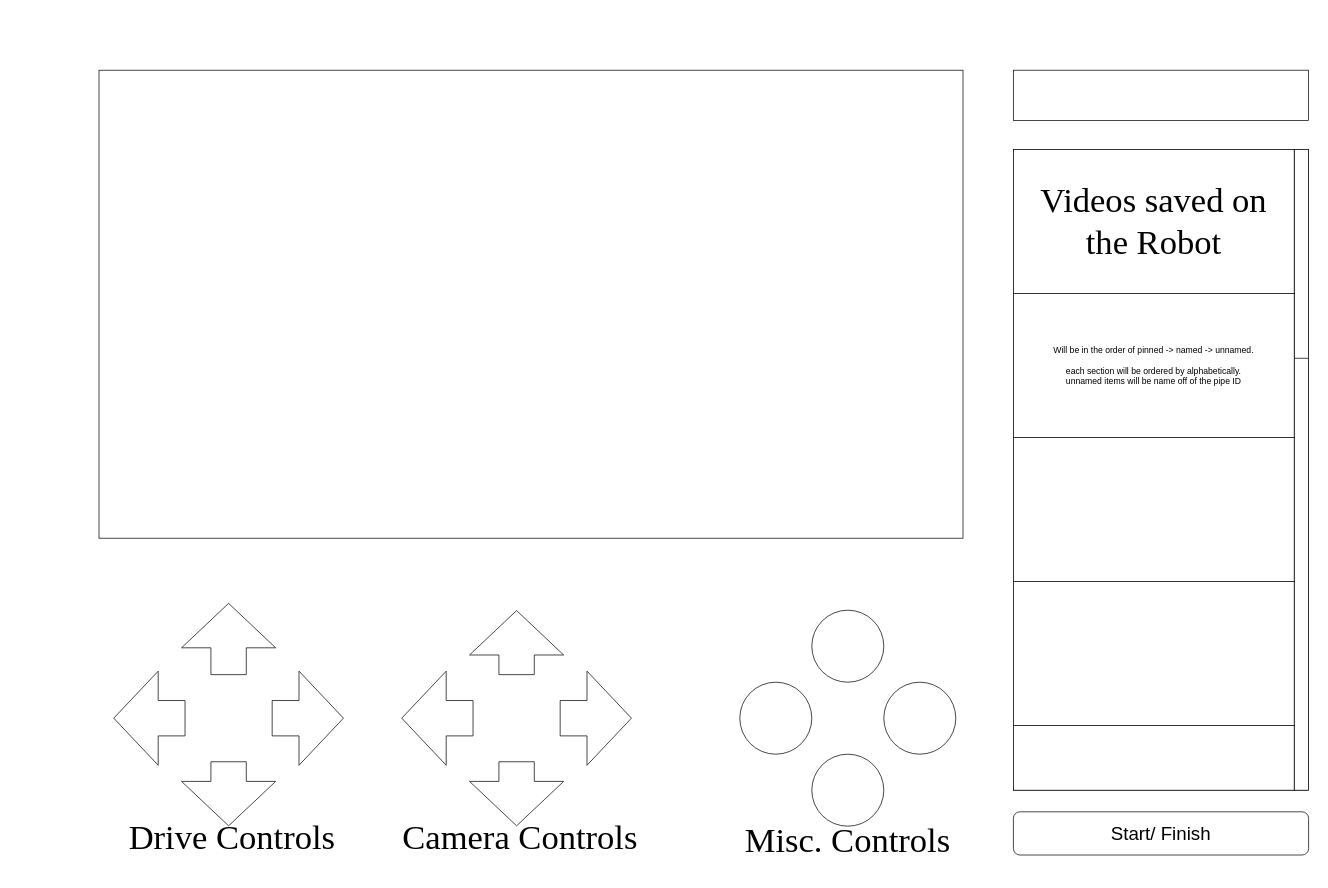
This 1328x888 diagram has some shape labels left out. Here are the shapes that lost their labels. From the top down, the box of each, then its label:
(1013, 69, 1309, 121): Search Bar
(98, 69, 963, 538): Video
